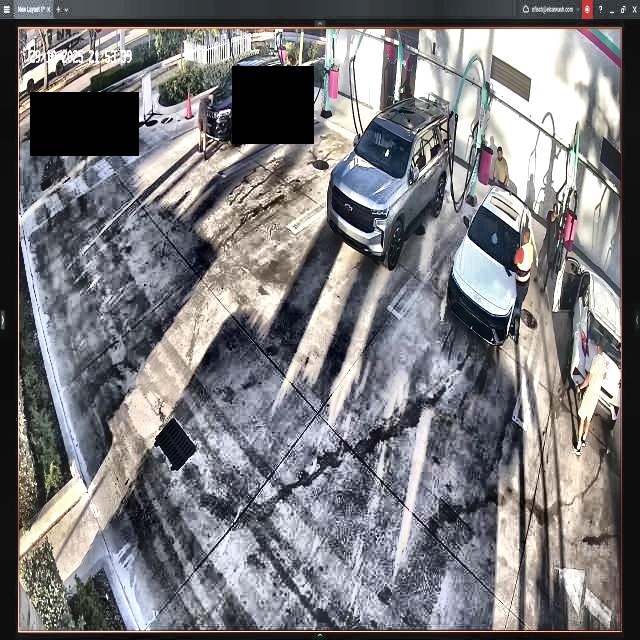Car: (325, 84, 448, 268), (448, 187, 532, 342), (201, 54, 286, 152)
